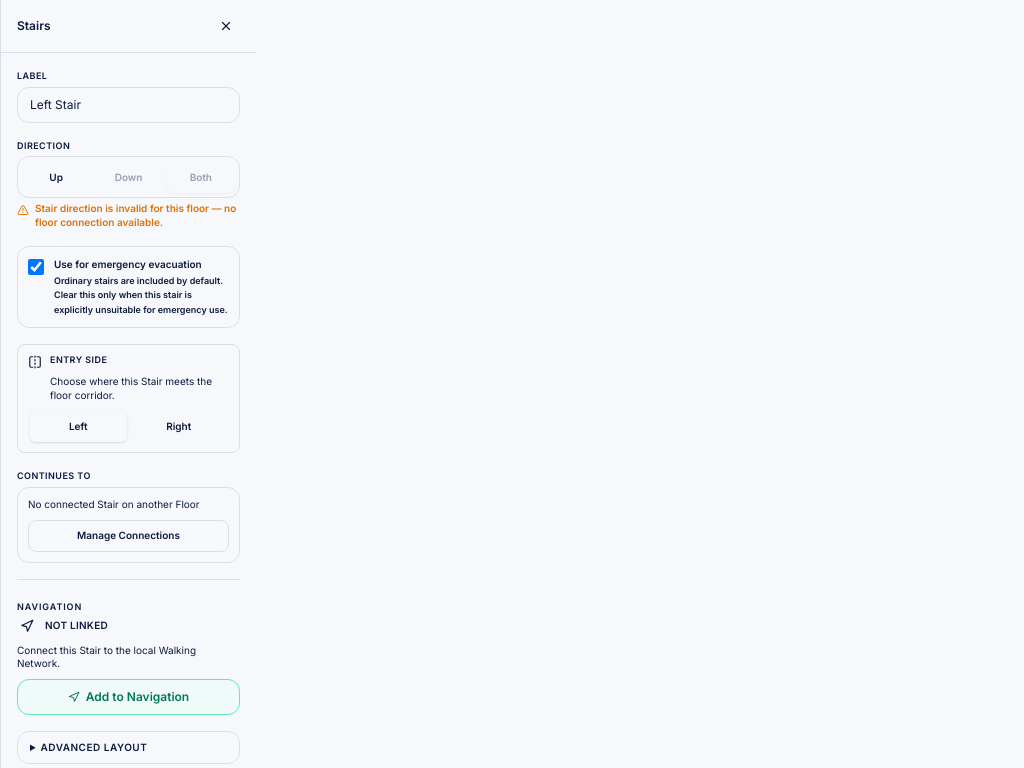
Test case: Room authoring properties › keeps the Stair connection manager open for panel clicks and closes on Escape
Step 1. Click the button with test id "circulation-group-trigger-stairs" → (128,536), box [28,520,229,552]
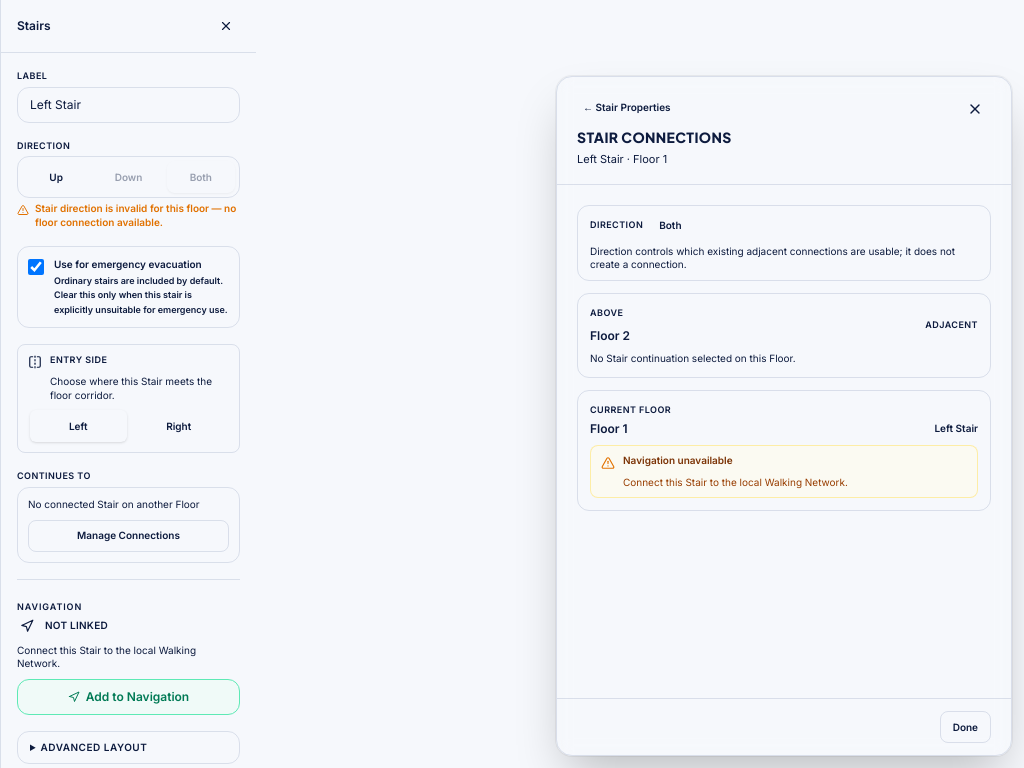
Expected: the message with test id "stair-manager-issues" shows "Navigation unavailable", [623,454,733,466]
Step 2. Move the pointer off the dialog with test id "circulation-group-picker", box [556,76,1012,756]
Expected: the dialog is shown, [556,76,1012,756]
Step 3. Press the mouse on the element with test id "stair-connections-side-panel" → (784,416), box [544,64,1023,767]
Expected: the dialog is shown, [556,76,1012,756]
Step 4. Press Escape
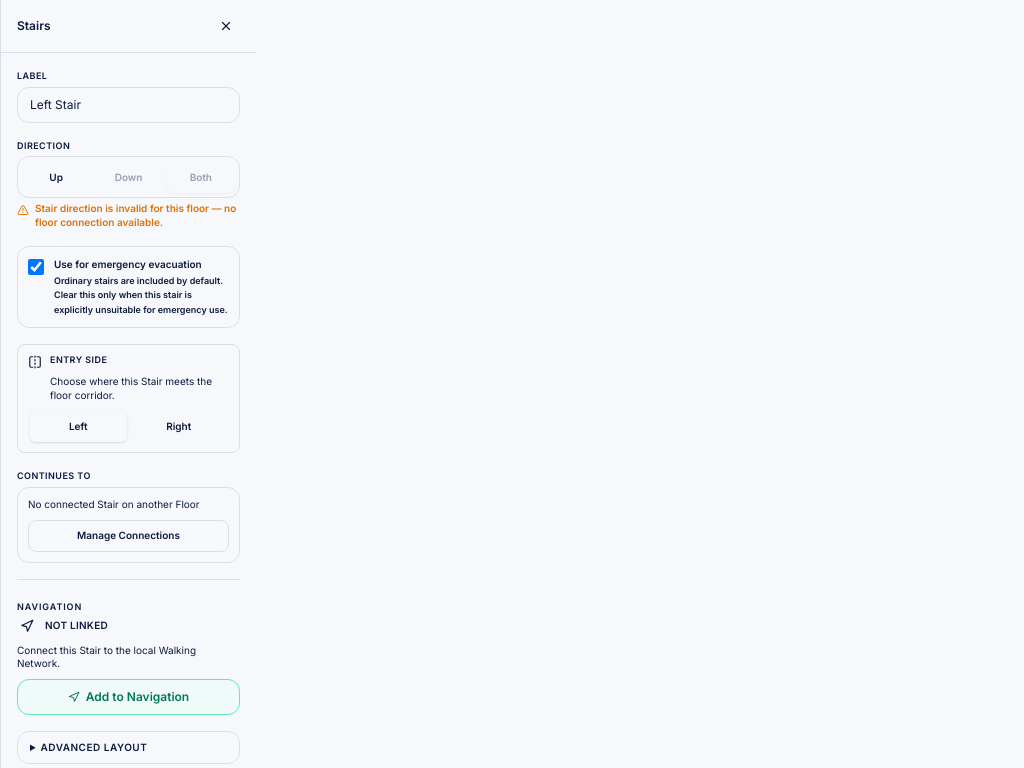
Expected: the dialog is gone
